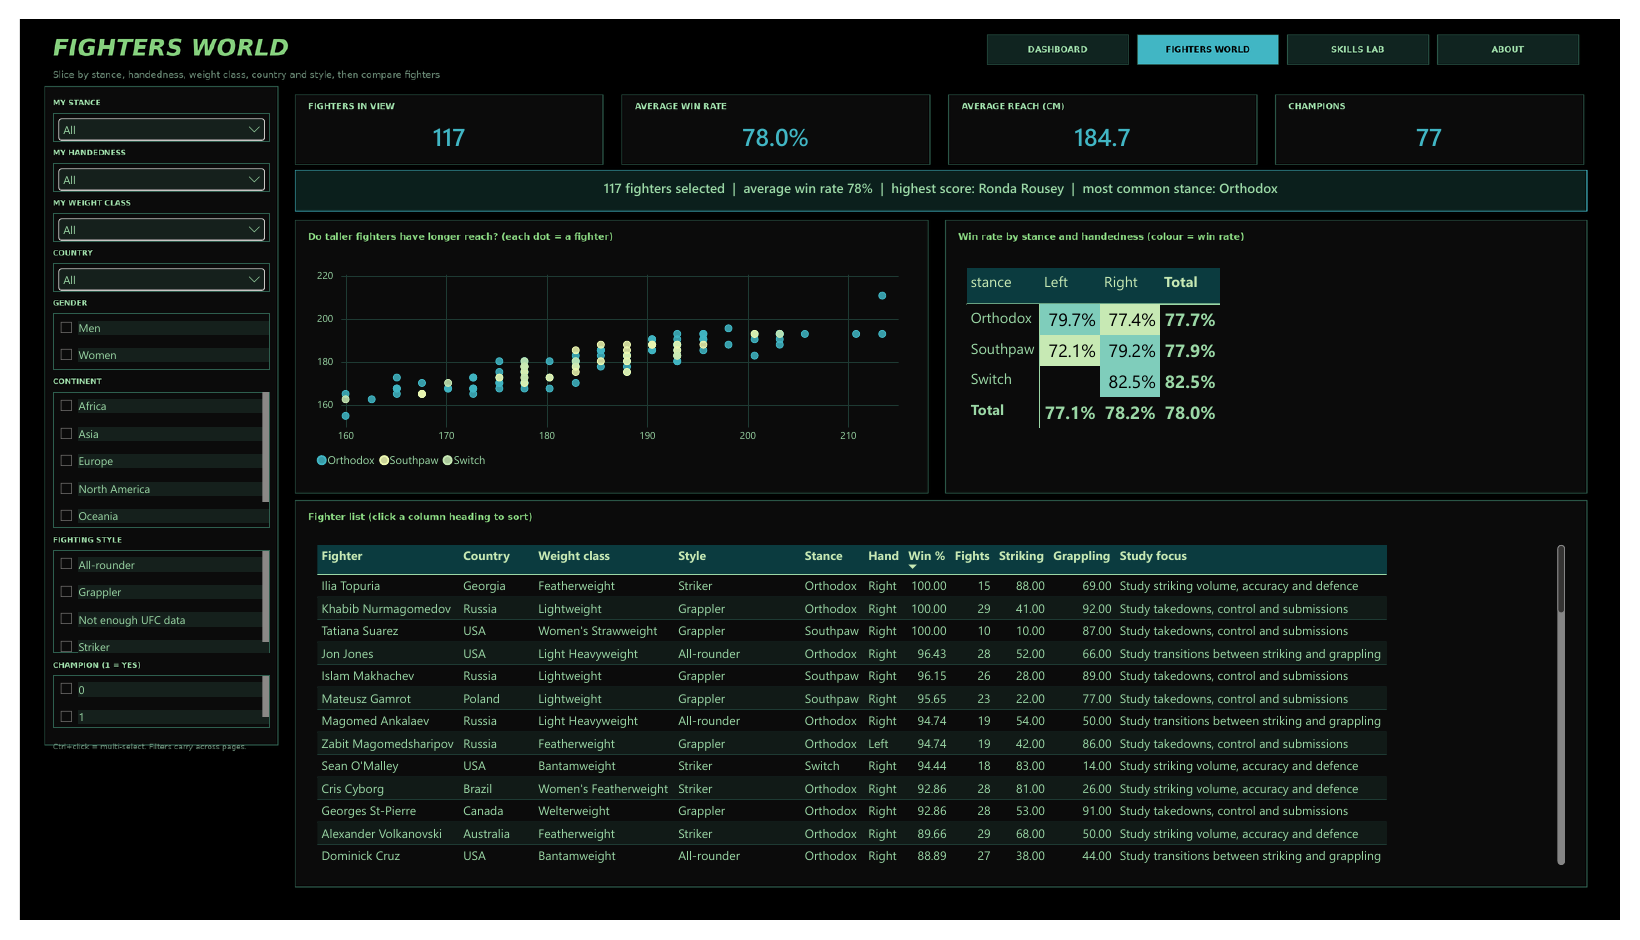

Layout of this report page (visuals, bound fields, positions):
{"tool":"powerbi","page":{"name":"Fighters world","canvas":[1920,1080],"ordinal":1},"visuals":[{"type":"card","fields":{"Values":["fighters.Insight Text"]},"box":[340,180,1530,50],"z":1260},{"type":"card","fields":{"Values":["fighters.Fighter Count"]},"box":[342,114,346,56],"z":1270},{"type":"card","fields":{"Values":["fighters.Avg Win Rate"]},"box":[734,114,346,56],"z":1280},{"type":"card","fields":{"Values":["fighters.Avg Reach"]},"box":[1126,114,346,56],"z":1290},{"type":"card","fields":{"Values":["fighters.Champions"]},"box":[1518,114,346,56],"z":1300},{"type":"scatterChart","fields":{"Category":["fighters.fighter_name"],"X":["fighters.Avg Reach"],"Y":["fighters.Avg Height"],"Series":["fighters.stance"]},"box":[340,284,740,274],"z":1310},{"type":"pivotTable","fields":{"Rows":["fighters.stance"],"Columns":["fighters.hand"],"Values":["fighters.Avg Win Rate"]},"box":[1120,284,750,274],"z":1320},{"type":"tableEx","fields":{"Values":["fighters.fighter_name","fighters.country","fighters.weight_class","fighters.fighting_style","fighters.stance","fighters.hand","fighters.win_rate","fighters.total_fights","fighters.striking_index","fighters.grappling_index","fighters.Study Tip"]},"box":[340,616,1530,414],"z":1330},{"type":"slicer","fields":{"Values":["fighters.stance"]},"box":[40,112,260,34],"z":7017},{"type":"slicer","fields":{"Values":["fighters.hand"]},"box":[40,172,260,34],"z":7018},{"type":"slicer","fields":{"Values":["fighters.weight_class"]},"box":[40,232,260,34],"z":7019},{"type":"slicer","fields":{"Values":["fighters.country"]},"box":[40,292,260,34],"z":7020},{"type":"slicer","fields":{"Values":["fighters.gender"]},"box":[40,352,260,68],"z":7021},{"type":"slicer","fields":{"Values":["fighters.continent"]},"box":[40,446,260,164],"z":7022},{"type":"slicer","fields":{"Values":["fighters.fighting_style"]},"box":[40,636,260,124],"z":7023},{"type":"slicer","fields":{"Values":["fighters.is_champion"]},"box":[40,786,260,64],"z":7024},{"type":"actionButton","box":[1160,18,170,36],"z":9033},{"type":"actionButton","box":[1340,18,170,36],"z":9034},{"type":"actionButton","box":[1520,18,170,36],"z":9035},{"type":"actionButton","box":[1700,18,170,36],"z":9036}]}

Visuals, with their boxes in screenshot pixels (x1, y1, x2, y2), scaled from the page's 1920x1080 canvas onto the 1640x940 screenshot:
card - fighters.Insight Text: {"left": 290, "top": 157, "right": 1597, "bottom": 200}
card - fighters.Fighter Count: {"left": 292, "top": 99, "right": 588, "bottom": 148}
card - fighters.Avg Win Rate: {"left": 627, "top": 99, "right": 922, "bottom": 148}
card - fighters.Avg Reach: {"left": 962, "top": 99, "right": 1257, "bottom": 148}
card - fighters.Champions: {"left": 1297, "top": 99, "right": 1592, "bottom": 148}
scatterChart - fighters.fighter_name x fighters.Avg Reach: {"left": 290, "top": 247, "right": 922, "bottom": 486}
pivotTable - fighters.stance x fighters.hand: {"left": 957, "top": 247, "right": 1597, "bottom": 486}
tableEx - fighters.fighter_name x fighters.country: {"left": 290, "top": 536, "right": 1597, "bottom": 896}
slicer - fighters.stance: {"left": 34, "top": 97, "right": 256, "bottom": 127}
slicer - fighters.hand: {"left": 34, "top": 150, "right": 256, "bottom": 179}
slicer - fighters.weight_class: {"left": 34, "top": 202, "right": 256, "bottom": 232}
slicer - fighters.country: {"left": 34, "top": 254, "right": 256, "bottom": 284}
slicer - fighters.gender: {"left": 34, "top": 306, "right": 256, "bottom": 366}
slicer - fighters.continent: {"left": 34, "top": 388, "right": 256, "bottom": 531}
slicer - fighters.fighting_style: {"left": 34, "top": 554, "right": 256, "bottom": 661}
slicer - fighters.is_champion: {"left": 34, "top": 684, "right": 256, "bottom": 740}
actionButton: {"left": 991, "top": 16, "right": 1136, "bottom": 47}
actionButton: {"left": 1145, "top": 16, "right": 1290, "bottom": 47}
actionButton: {"left": 1298, "top": 16, "right": 1444, "bottom": 47}
actionButton: {"left": 1452, "top": 16, "right": 1597, "bottom": 47}
